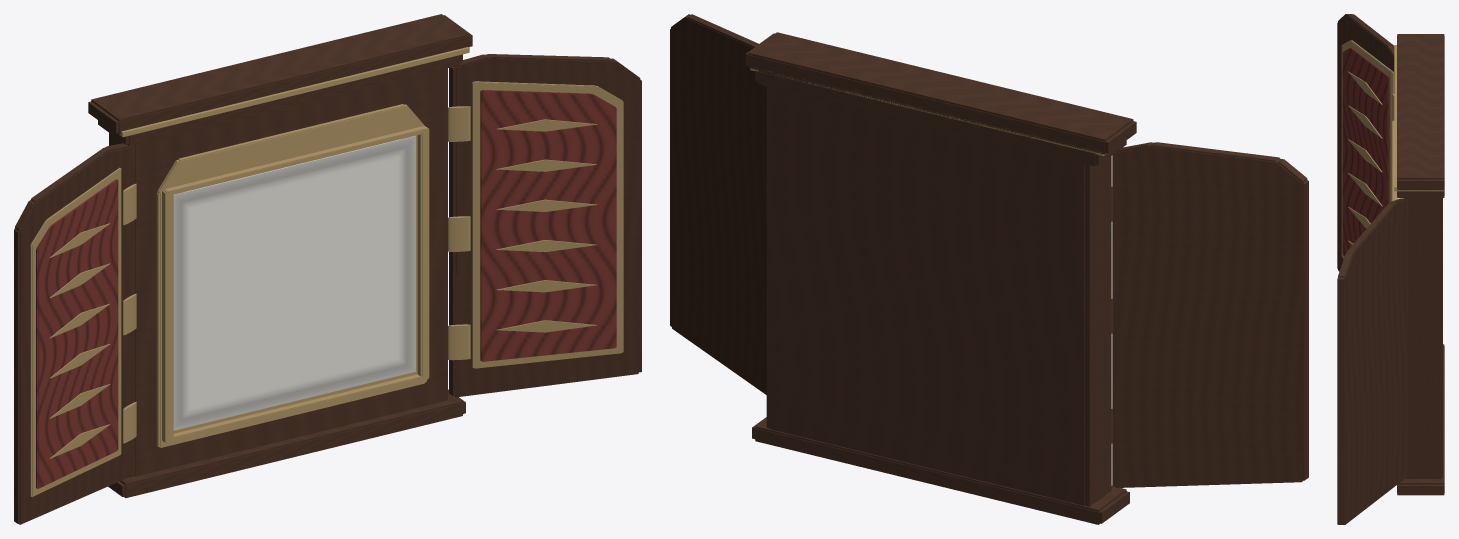
Rendered from s01-collector-triptych-detailed.glb.
3 views of the same model, side by side, from view 1: azimuth 30°, elevation 25°; view 2: azimuth 150°, elevation 25°; view 3: azimuth 270°, elevation 25° (orthographic). The views are drawn at different scales.
Parts seen in each view (by area): view 1: Picture recess, Right hinged leaf, Case and cornice, Left hinged leaf; view 2: Case and cornice, Left hinged leaf, Right hinged leaf; view 3: Right hinged leaf, Case and cornice, Left hinged leaf, Picture recess.
Part boxes in pixels (<box>): Picture recess: <box>156,104,429,447</box>; Right hinged leaf: <box>448,54,641,397</box>; Case and cornice: <box>88,14,472,497</box>; Left hinged leaf: <box>14,143,136,524</box>; Case and cornice: <box>745,32,1136,524</box>; Left hinged leaf: <box>1111,142,1308,487</box>; Right hinged leaf: <box>670,14,766,394</box>; Right hinged leaf: <box>1337,198,1407,524</box>; Case and cornice: <box>1394,34,1444,495</box>; Left hinged leaf: <box>1337,14,1404,271</box>; Picture recess: <box>1392,120,1403,201</box>.
Size of the model in its own units: 3.95 by 2.3 by 0.7.
1 material, 1 textured.
